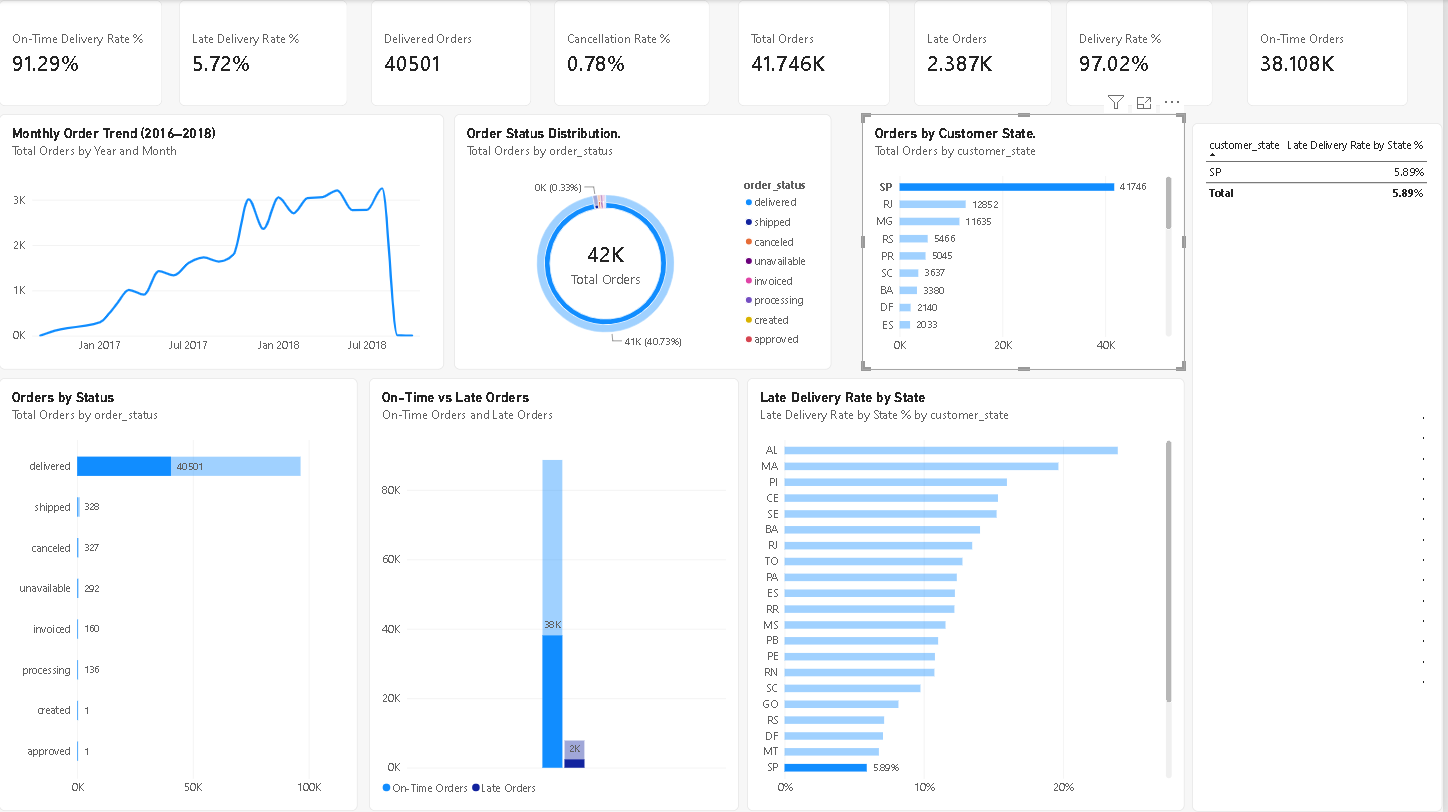

The page's visual inventory and layout, read from the dashboard file:
{"tool":"powerbi","page":{"name":"Page 1","canvas":[1920,1080],"ordinal":0},"visuals":[{"type":"cardVisual","fields":{"Data":["olist_orders_dataset.Delivered Orders"]},"box":[494.6,0,213,141.5],"z":0},{"type":"cardVisual","fields":{"Data":["olist_orders_dataset.Total Orders"]},"box":[983.3,0,202.8,141.5],"z":1000},{"type":"cardVisual","fields":{"Data":["olist_orders_dataset.Delivery Rate %"]},"box":[1419.6,0,195.5,141.5],"z":2000},{"type":"cardVisual","fields":{"Data":["olist_orders_dataset.Cancellation Rate %"]},"box":[738.2,0,207.2,141.5],"z":3000},{"type":"cardVisual","title":"On-Time delivery rate","fields":{"Data":["olist_orders_dataset.On-Time Delivery Rate %"]},"box":[0,0,217.4,141.5],"z":4000},{"type":"cardVisual","fields":{"Data":["olist_orders_dataset.Late Orders"]},"box":[1216.8,0,183.8,141.5],"z":5000},{"type":"cardVisual","fields":{"Data":["olist_orders_dataset.Late Delivery Rate %"]},"box":[239.3,0,224.7,141.5],"z":6000},{"type":"clusteredBarChart","title":"Orders by Status","fields":{"Category":["olist_orders_dataset.order_status"],"Y":["olist_orders_dataset.Total Orders"]},"box":[0,503.3,477.1,576.3],"z":7000},{"type":"lineChart","title":"Monthly Order Trend (2016–2018)","fields":{"Category":["olist_orders_dataset.order_purchase_timestamp.Variation.Date Hierarchy.Year","olist_orders_dataset.order_purchase_timestamp.Variation.Date Hierarchy.Month"],"Y":["olist_orders_dataset.Total Orders"]},"box":[0,151.7,592.3,339.9],"z":8000},{"type":"clusteredColumnChart","title":"On-Time vs Late Orders","fields":{"Y":["olist_orders_dataset.On-Time Orders","olist_orders_dataset.Late Orders"]},"box":[491.7,503.3,491.7,576.3],"z":9000},{"type":"donutChart","title":"Order Status Distribution.","fields":{"Category":["olist_orders_dataset.order_status"],"Y":["olist_orders_dataset.Total Orders"]},"box":[605.5,151.7,501.9,339.9],"z":10000},{"type":"clusteredBarChart","title":"Orders by Customer State.","fields":{"Category":["olist_customers_dataset.customer_state"],"Y":["olist_orders_dataset.Total Orders"]},"box":[1148.2,151.7,428.9,339.9],"z":11000},{"type":"tableEx","fields":{"Values":["olist_customers_dataset.customer_state","olist_customers_dataset.Late Delivery Rate by State %"]},"box":[1587.4,163.4,332.6,916.2],"z":12000},{"type":"clusteredBarChart","title":"Late Delivery Rate by State","fields":{"Category":["olist_customers_dataset.customer_state"],"Y":["olist_customers_dataset.Late Delivery Rate by State %"]},"box":[995,503.3,582.1,576.3],"z":13000},{"type":"cardVisual","fields":{"Data":["olist_orders_dataset.On-Time Orders"]},"box":[1660.3,0,214.5,141.5],"z":13001}]}

Visuals, with their boxes in screenshot pixels (x1, y1, x2, y2), scaled from the page's 1920x1080 canvas onto the 1448x812 screenshot:
cardVisual - olist_orders_dataset.Delivered Orders: 373,0,534,106
cardVisual - olist_orders_dataset.Total Orders: 742,0,895,106
cardVisual - olist_orders_dataset.Delivery Rate %: 1071,0,1218,106
cardVisual - olist_orders_dataset.Cancellation Rate %: 557,0,713,106
"On-Time delivery rate" cardVisual: 0,0,164,106
cardVisual - olist_orders_dataset.Late Orders: 918,0,1056,106
cardVisual - olist_orders_dataset.Late Delivery Rate %: 180,0,350,106
"Orders by Status" clusteredBarChart: 0,378,360,811
"Monthly Order Trend (2016–2018)" lineChart: 0,114,447,370
"On-Time vs Late Orders" clusteredColumnChart: 371,378,742,811
"Order Status Distribution." donutChart: 457,114,835,370
"Orders by Customer State." clusteredBarChart: 866,114,1189,370
tableEx - olist_customers_dataset.customer_state x olist_customers_dataset.Late Delivery Rate by State %: 1197,123,1447,811
"Late Delivery Rate by State" clusteredBarChart: 750,378,1189,811
cardVisual - olist_orders_dataset.On-Time Orders: 1252,0,1414,106
